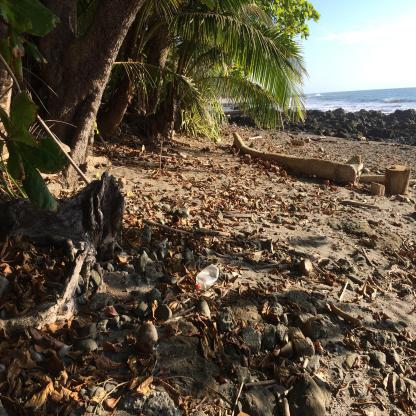Clear plastic bottle: (196, 264, 219, 290)
Plastic bottle cap: (196, 284, 200, 289)
